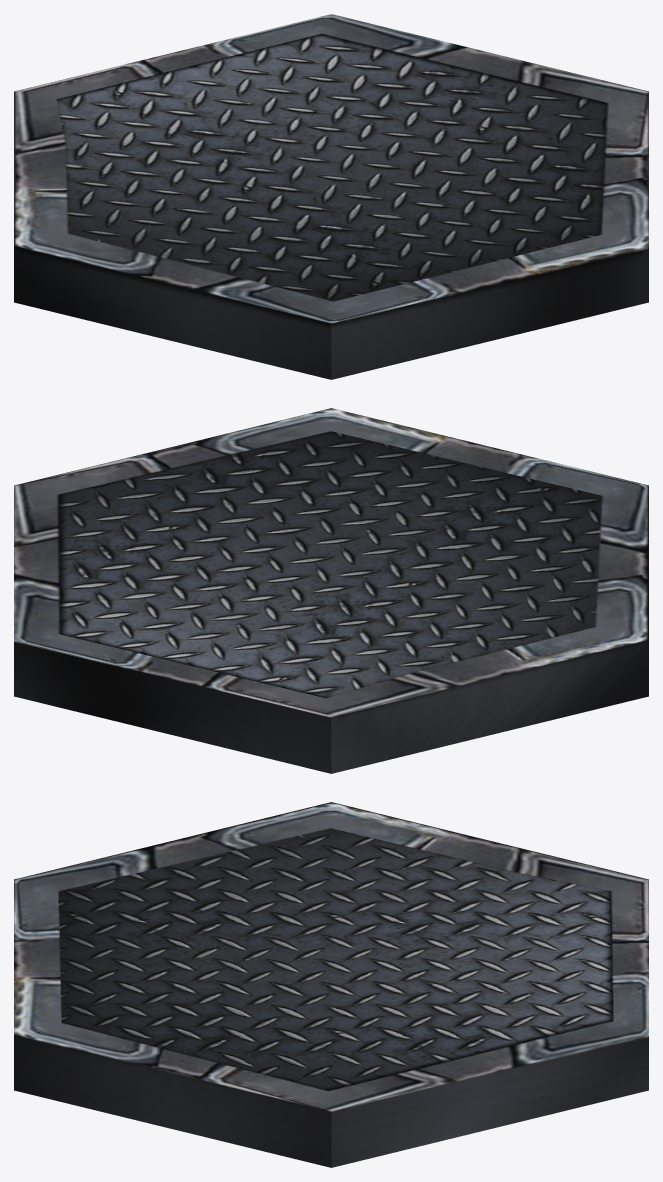
The model's file is plataforma_collider.fbx.
The picture shows the model from 3 angles, top to bottom: view 1: azimuth 30°, elevation 25°; view 2: azimuth 150°, elevation 25°; view 3: azimuth 270°, elevation 25°; orthographic projection.
Visible parts, largest first — view 1: plataforma_geo; view 2: plataforma_geo; view 3: plataforma_geo.
Boxes of the visible parts, x1=… form: plataforma_geo: x1=14, y1=14, x2=648, y2=379; plataforma_geo: x1=14, y1=408, x2=648, y2=773; plataforma_geo: x1=14, y1=802, x2=648, y2=1167.
Size of the model in its own units: 115 by 9.7 by 99.66.
